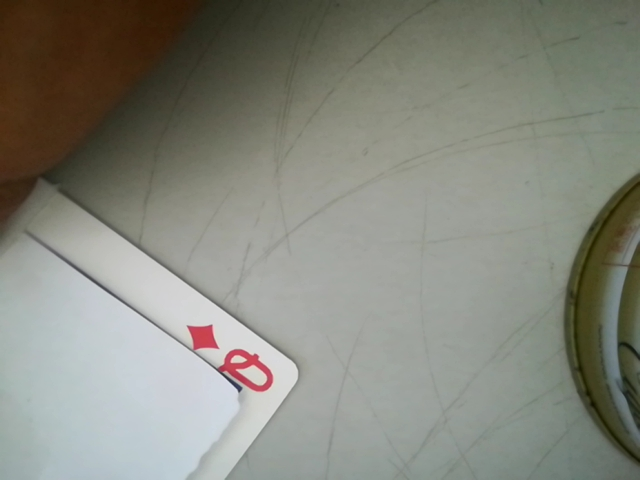fk q: (170, 318, 285, 407)
